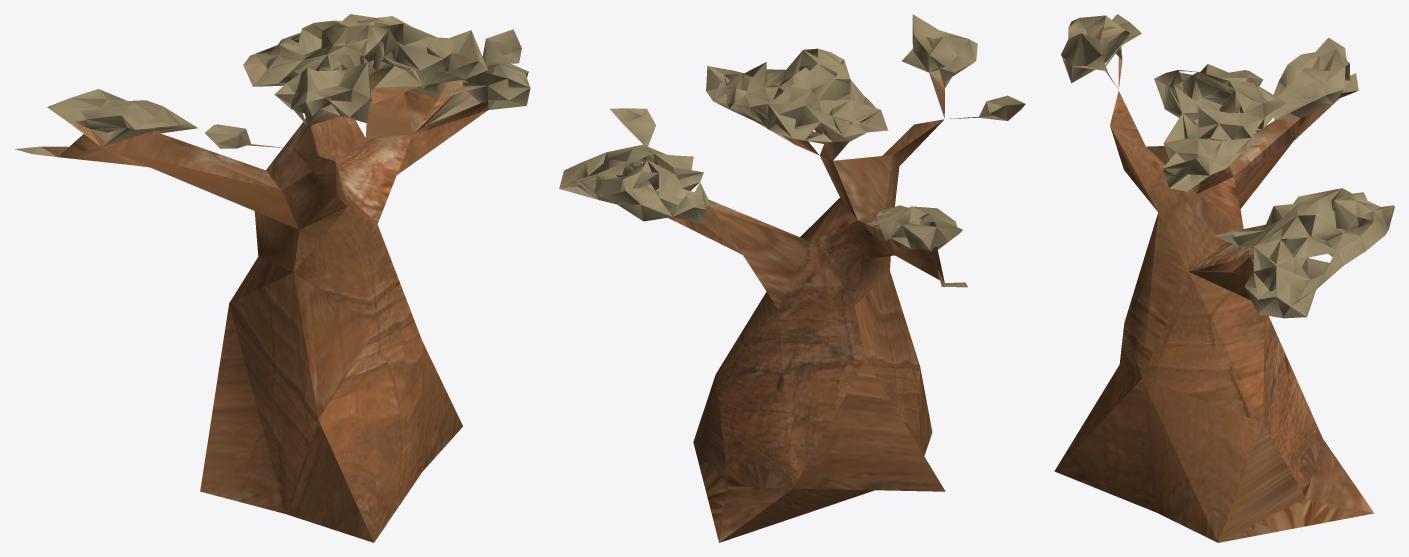
Rendered from de_reservoir_tree_lod1.glb.
3 views of the same model, side by side, from view 1: azimuth 30°, elevation 25°; view 2: azimuth 150°, elevation 25°; view 3: azimuth 270°, elevation 25° (orthographic). The views are drawn at different scales.
Parts seen in each view (by area): view 1: mesh; view 2: mesh; view 3: mesh.
Part boxes in pixels (bbox=[...]): mesh: bbox=[15, 14, 530, 542]; mesh: bbox=[559, 14, 1025, 542]; mesh: bbox=[1054, 14, 1394, 542].
Size of the model in its own units: 1.72 by 1.65 by 1.12.
Materials: 1 (1 with a texture image).
